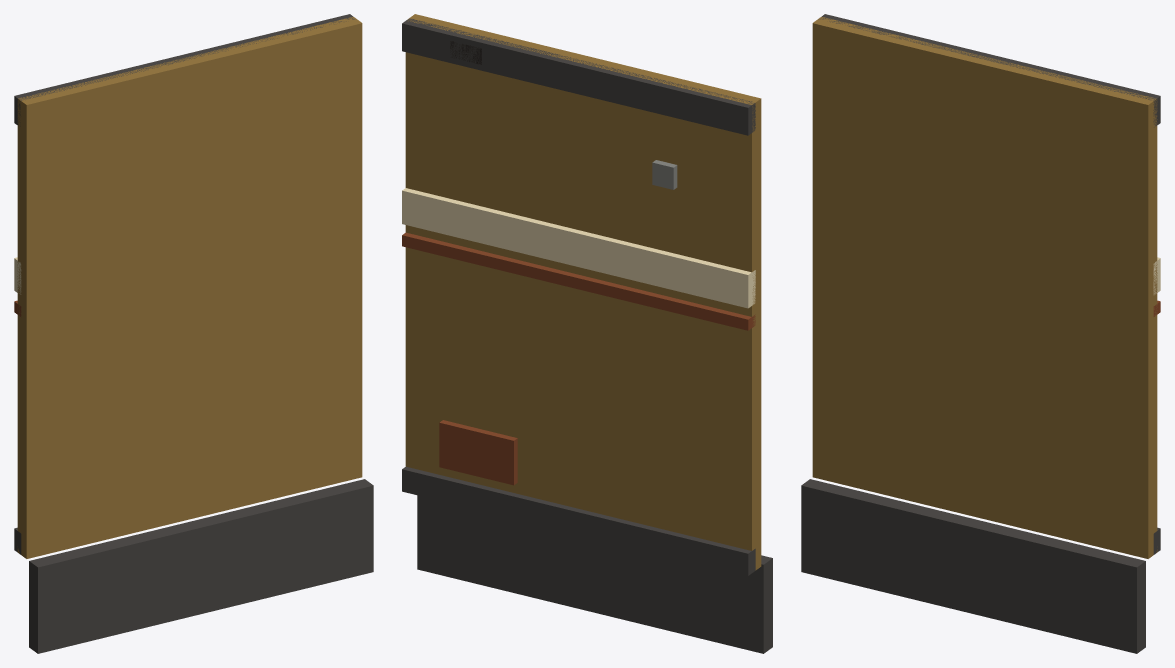
Rendered from bed_side.glb.
3 renders of one model, left to right at view 1: azimuth 30°, elevation 25°; view 2: azimuth 150°, elevation 25°; view 3: azimuth 330°, elevation 25°, orthographic. The views are drawn at different scales.
Parts seen in each view (by area): view 1: bed_side; view 2: bed_side; view 3: bed_side.
Part boxes in pixels (x1,y1,x2,y2): bed_side: (14, 14, 373, 653); bed_side: (402, 14, 772, 653); bed_side: (801, 14, 1160, 653).
Size of the model in its own units: 0.65 by 1 by 0.08.
